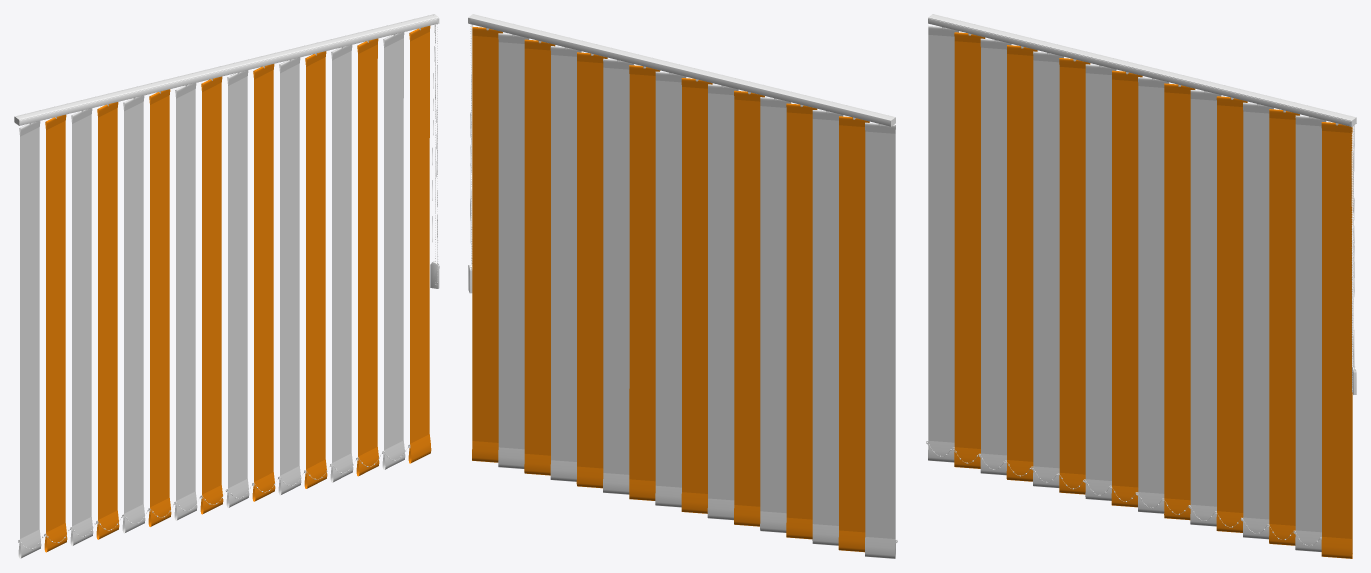
The picture shows the model from 3 angles, left to right: view 1: azimuth 30°, elevation 25°; view 2: azimuth 150°, elevation 25°; view 3: azimuth 330°, elevation 25°; orthographic projection.
Parts seen in each view (by area): view 1: Plane.009, Plane.003, Plane.014, Plane.004, Plane.006, Plane.007, Plane.012, Plane.001, Plane.011, Plane.015, Plane.008, Plane.010 (+5 smaller); view 2: Plane.009, Plane.002, Plane.010, Plane.015, Plane.016, Plane.004, Plane.011, Plane.014, Plane.003, Plane.008, Plane.005, Plane.006 (+5 smaller); view 3: Plane.016, Plane.001, Plane.006, Plane.011, Plane.005, Plane.015, Plane.009, Plane.014, Plane.008, Plane.010, Plane.003, Plane.012 (+5 smaller).
Part boxes in pixels (left/top/right/bottom): Plane.009: left=18, top=121, right=41, bottom=558; Plane.003: left=96, top=102, right=119, bottom=539; Plane.014: left=356, top=38, right=379, bottom=476; Plane.004: left=122, top=95, right=145, bottom=533; Plane.006: left=174, top=83, right=197, bottom=520; Plane.007: left=200, top=76, right=223, bottom=514; Plane.012: left=304, top=51, right=327, bottom=488; Plane.001: left=44, top=114, right=67, bottom=552; Plane.011: left=278, top=57, right=301, bottom=495; Plane.015: left=382, top=32, right=405, bottom=469; Plane.008: left=226, top=70, right=249, bottom=507; Plane.010: left=252, top=64, right=275, bottom=501; Plane.009: left=865, top=122, right=895, bottom=558; Plane.002: left=812, top=110, right=843, bottom=545; Plane.010: left=629, top=65, right=660, bottom=500; Plane.015: left=498, top=33, right=529, bottom=468; Plane.016: left=472, top=26, right=502, bottom=462; Plane.004: left=760, top=97, right=790, bottom=532; Plane.011: left=603, top=58, right=633, bottom=494; Plane.014: left=524, top=39, right=555, bottom=475; Plane.003: left=786, top=103, right=817, bottom=539; Plane.008: left=655, top=71, right=686, bottom=507; Plane.005: left=734, top=90, right=764, bottom=526; Plane.006: left=707, top=84, right=738, bottom=520; Plane.016: left=1321, top=122, right=1352, bottom=558; Plane.001: left=954, top=32, right=985, bottom=468; Plane.006: left=1085, top=64, right=1116, bottom=500; Plane.011: left=1190, top=90, right=1221, bottom=526; Plane.005: left=1059, top=58, right=1090, bottom=494; Plane.015: left=1295, top=115, right=1326, bottom=552; Plane.009: left=928, top=26, right=958, bottom=462; Plane.014: left=1269, top=109, right=1299, bottom=545; Plane.008: left=1138, top=77, right=1168, bottom=513; Plane.010: left=1164, top=83, right=1195, bottom=520; Plane.003: left=1006, top=45, right=1037, bottom=481; Plane.012: left=1216, top=96, right=1247, bottom=532.
Size of the model in its own units: 2.02 by 2 by 0.0584.
4 materials, 1 textured.
